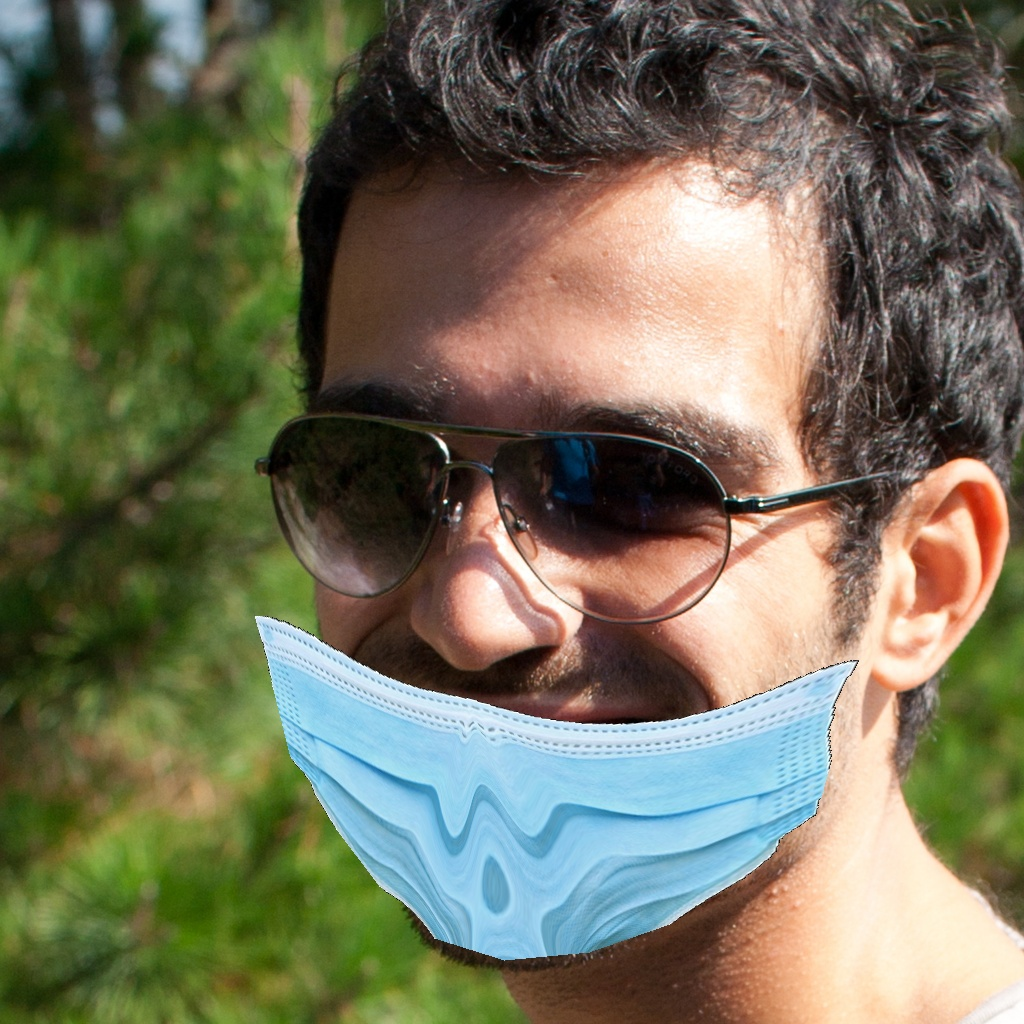mascarilla_mal_puesta: (277, 513, 1017, 985)
